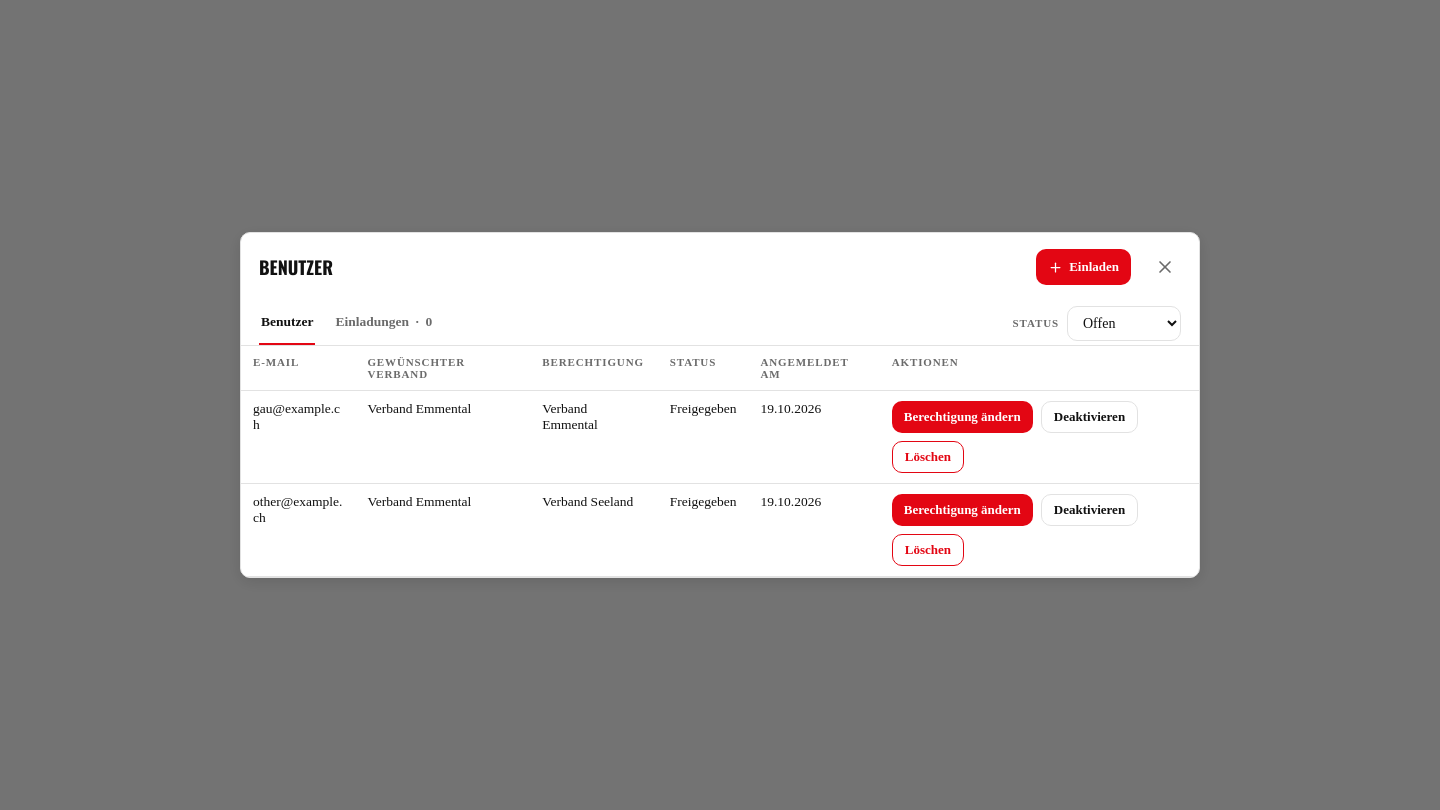
Test: AccountsPanel › acting on two rows at once › still explains a refusal of the first one
Click the button "Deaktivieren" in the row of "gau@example.ch": [1090, 417] box [1041,401,1138,433]
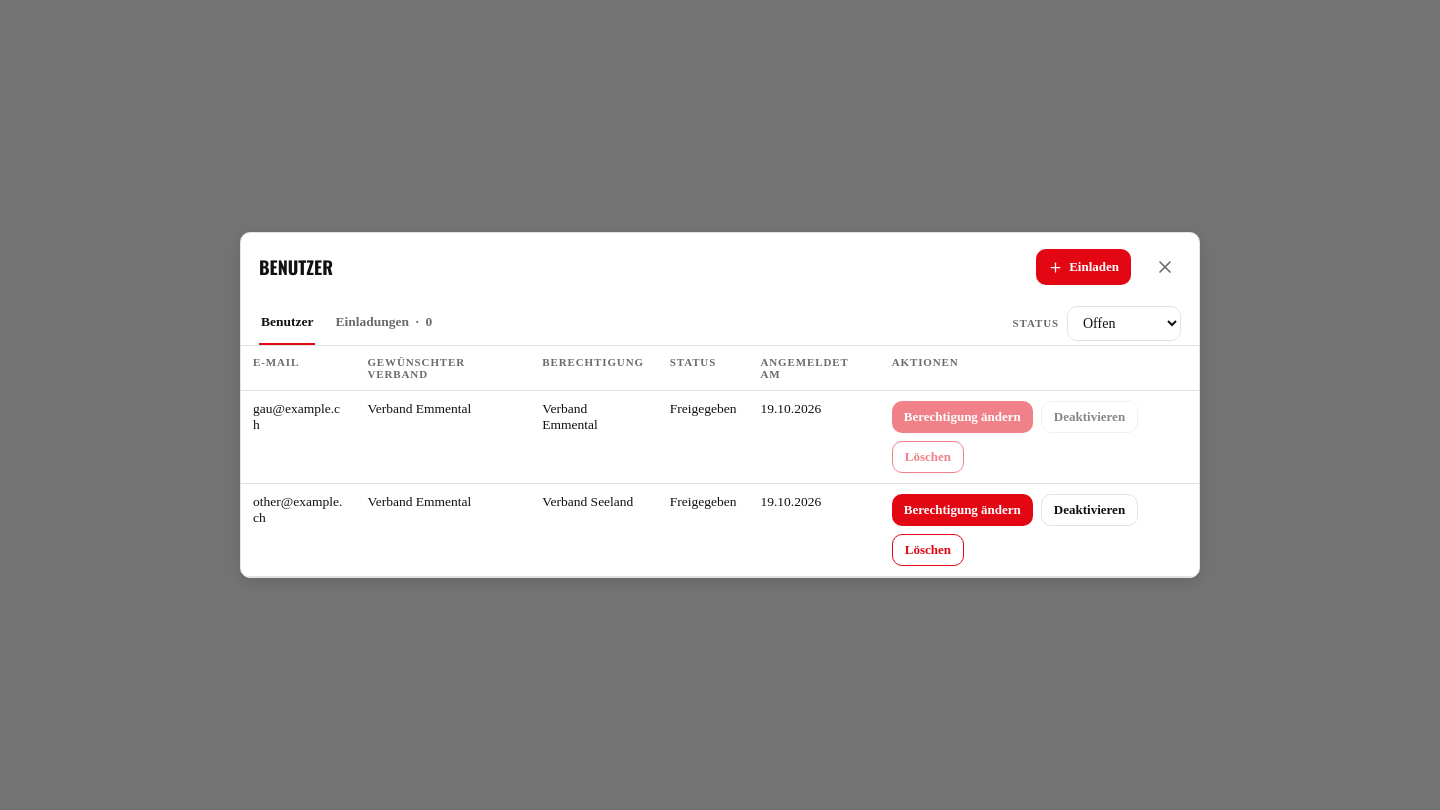
Click the button "Deaktivieren" in the row of "other@example.ch": [1090, 510] box [1041,494,1138,526]
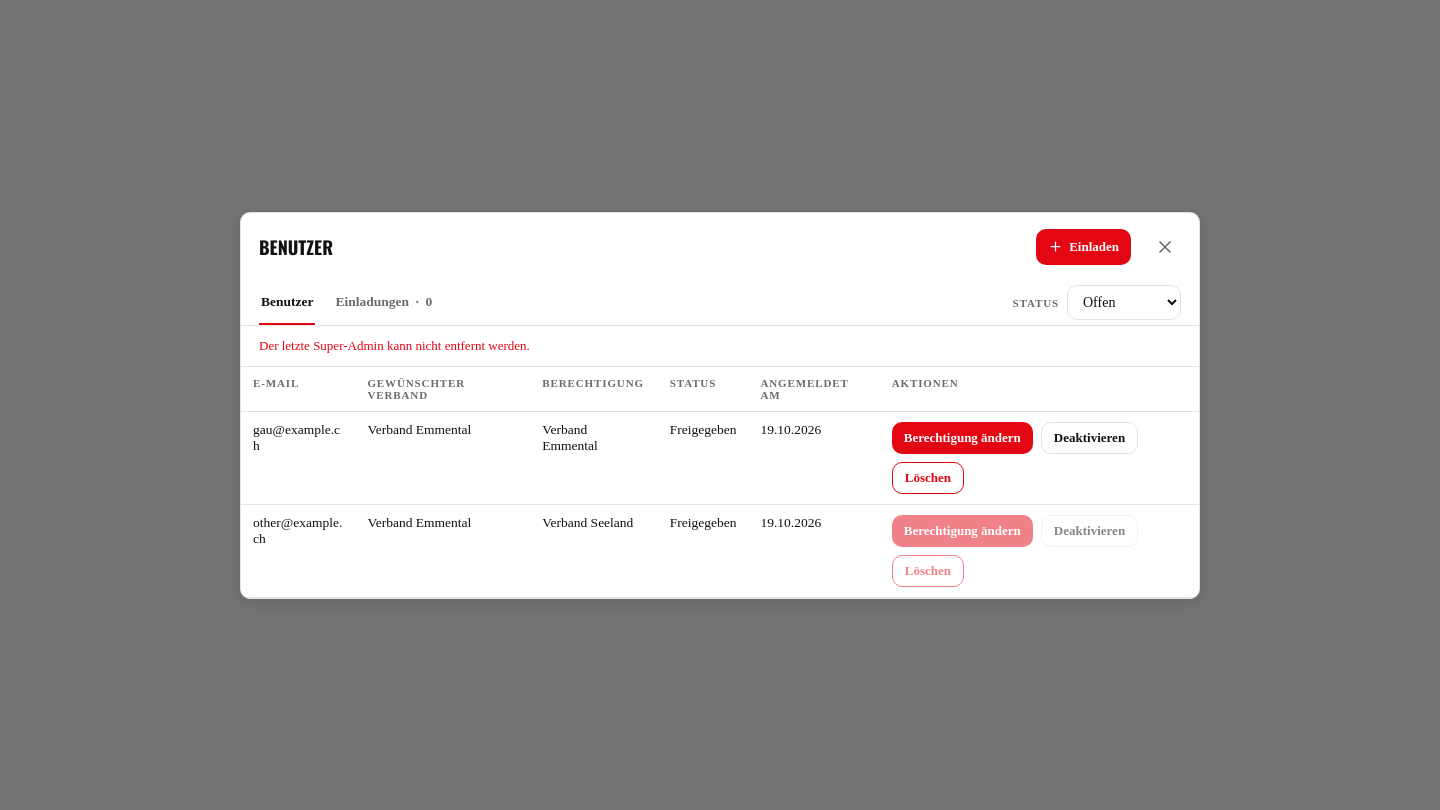
Expected: the message reads "Der letzte Super-Admin kann nicht entfernt werden.", [259,338,530,352]
